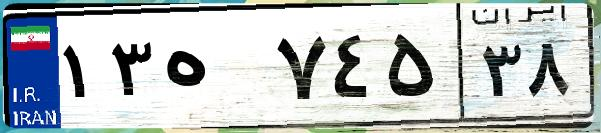1: (57, 26, 110, 100)
3: (475, 38, 525, 113), (110, 28, 158, 98)
4: (330, 28, 385, 110)
5: (385, 28, 445, 110)
7: (270, 28, 330, 110)
8: (525, 38, 570, 115)
ه: (158, 20, 270, 120)
